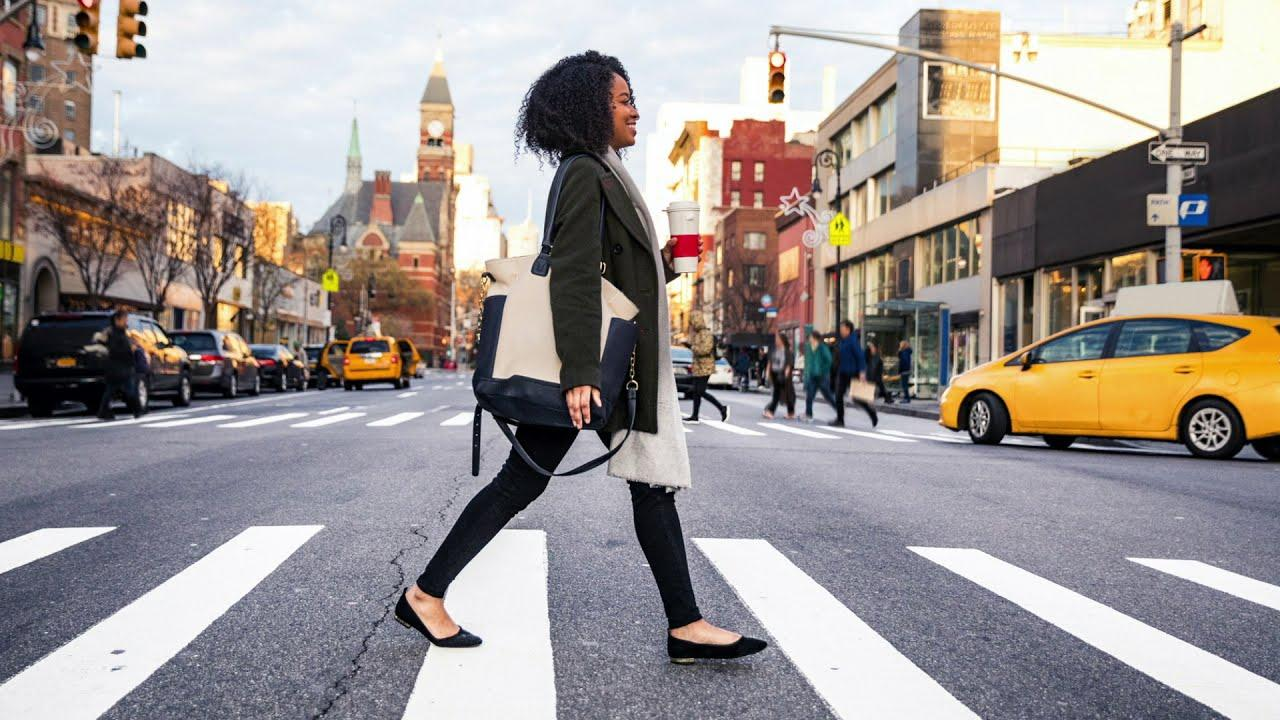car: (932, 303, 1280, 473)
pedestrian: (393, 46, 785, 683), (679, 306, 738, 436), (830, 314, 887, 438), (800, 327, 841, 433), (763, 326, 801, 432)
traffic light: (109, 1, 155, 65), (764, 39, 796, 124), (65, 1, 102, 70)
traffic sign: (1132, 115, 1222, 271), (819, 208, 856, 308)
